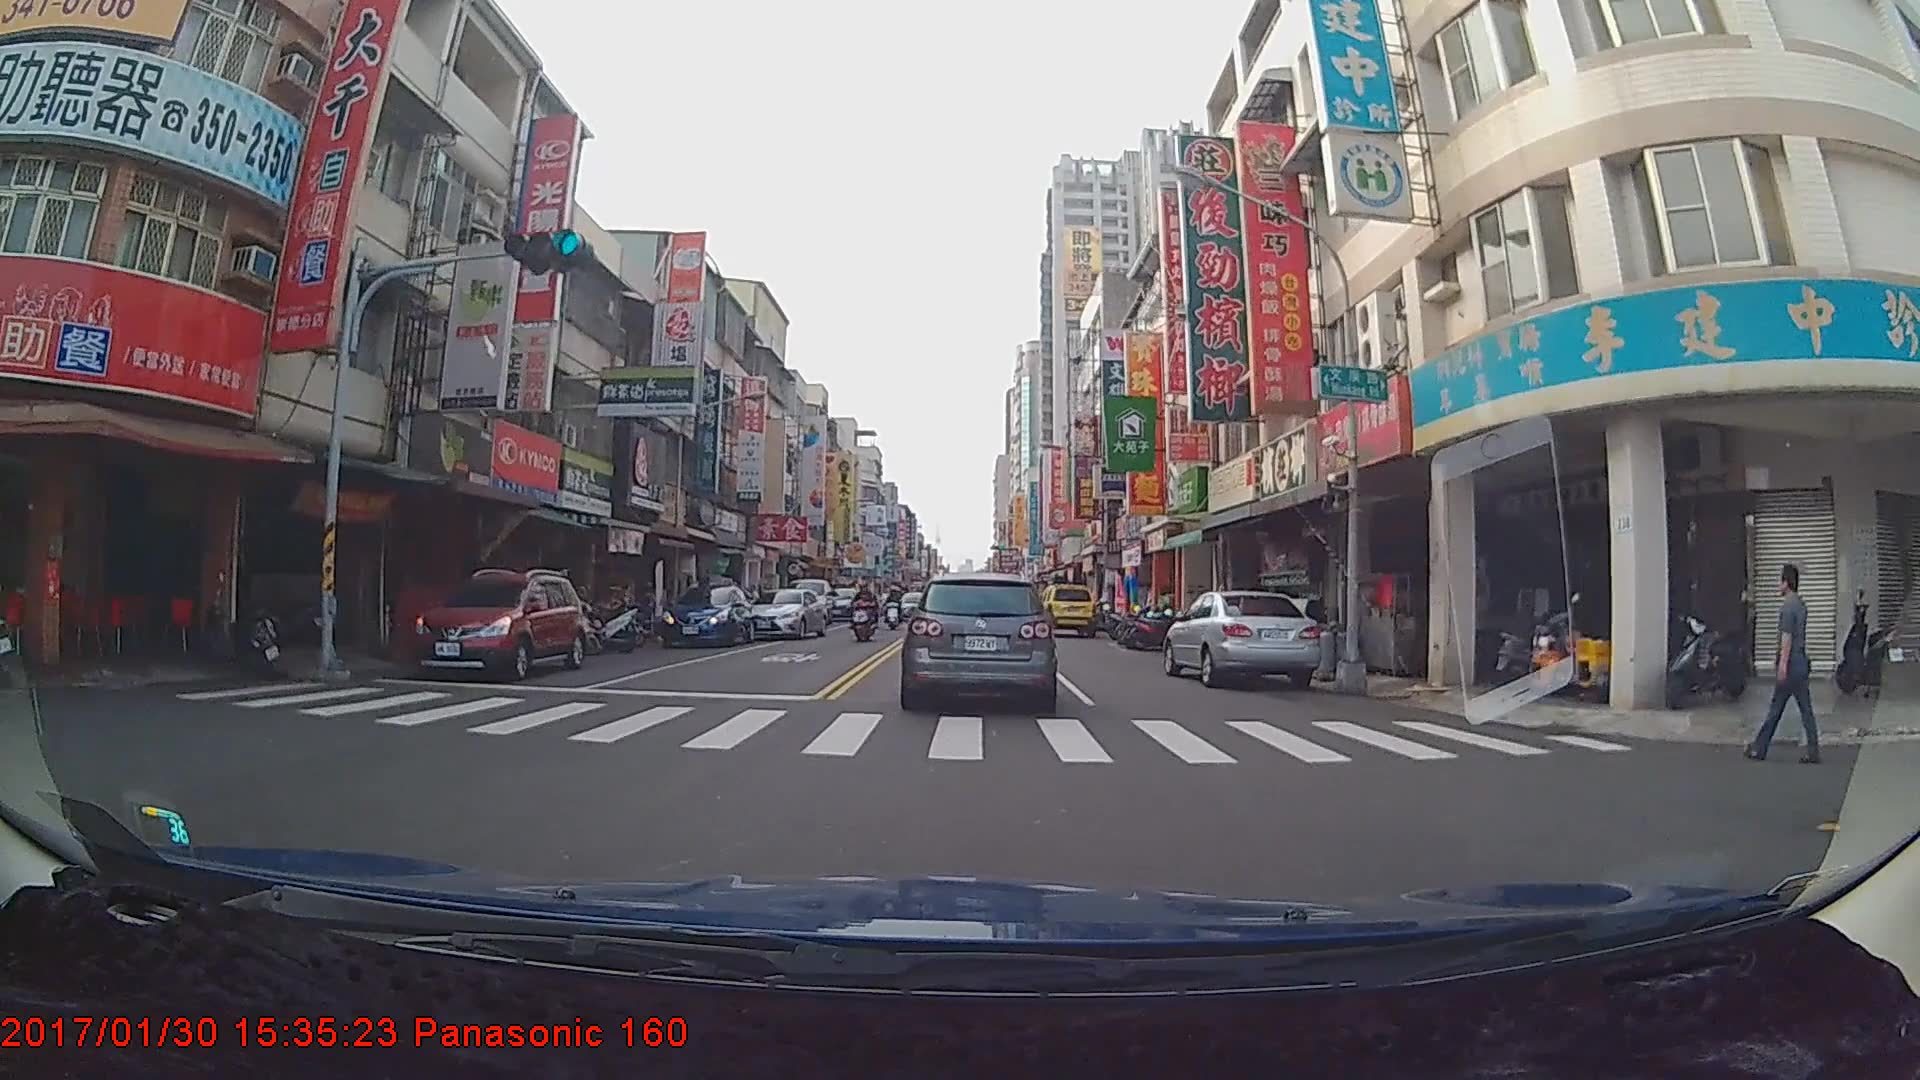pedestrian: (1741, 559, 1824, 771)
rider: (857, 577, 885, 640)
vehicle: (412, 563, 587, 680), (905, 571, 1050, 709), (1164, 590, 1324, 690), (657, 583, 755, 647), (742, 586, 828, 638), (1041, 583, 1096, 635), (784, 576, 833, 626)
